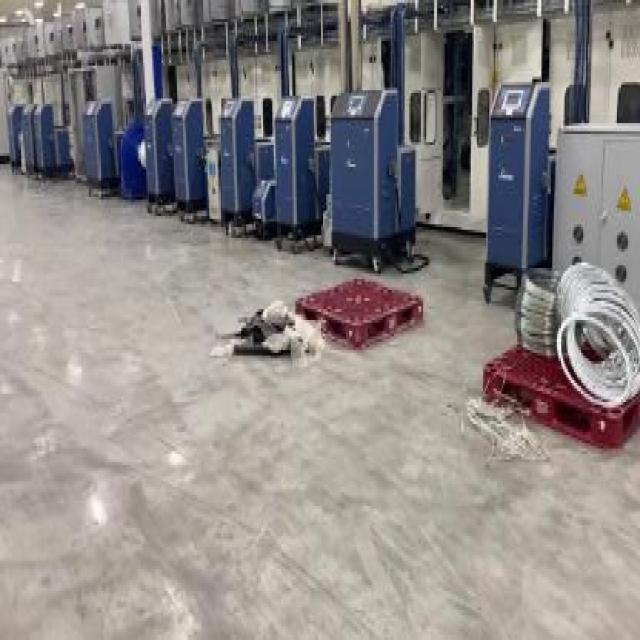box: (501, 268, 634, 443), (292, 265, 426, 356)
